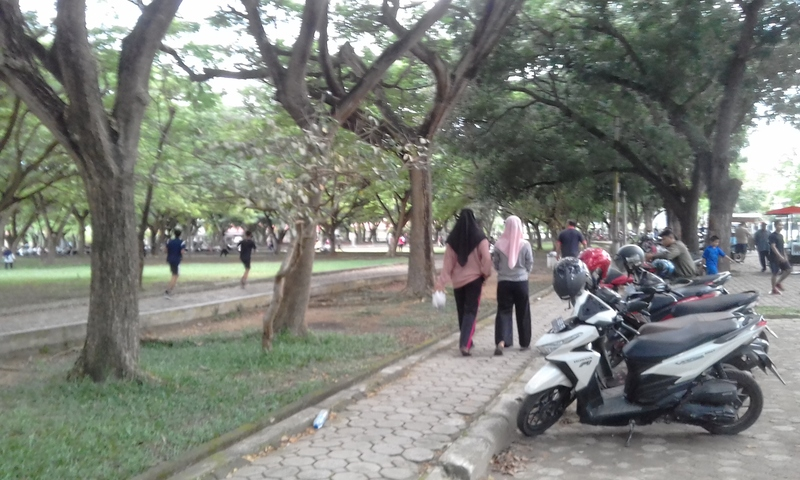person: (430, 205, 491, 357), (491, 213, 536, 358), (698, 234, 736, 290), (766, 218, 791, 296), (164, 226, 186, 299), (236, 227, 259, 289)
